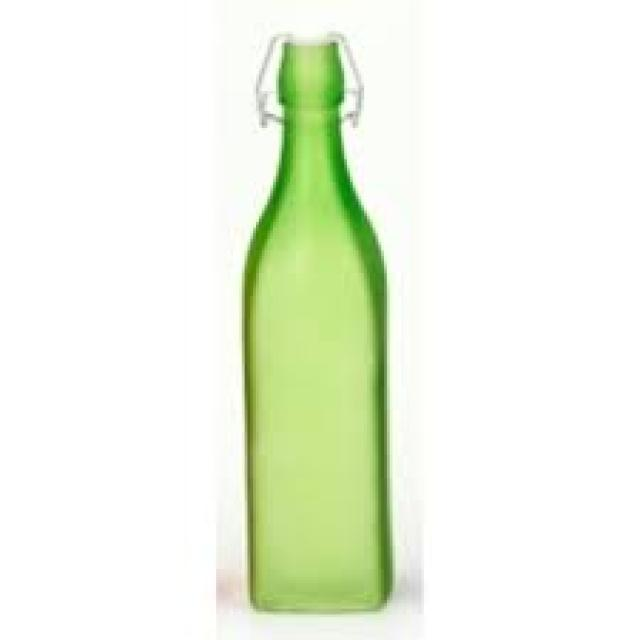glass: (239, 37, 390, 612)
